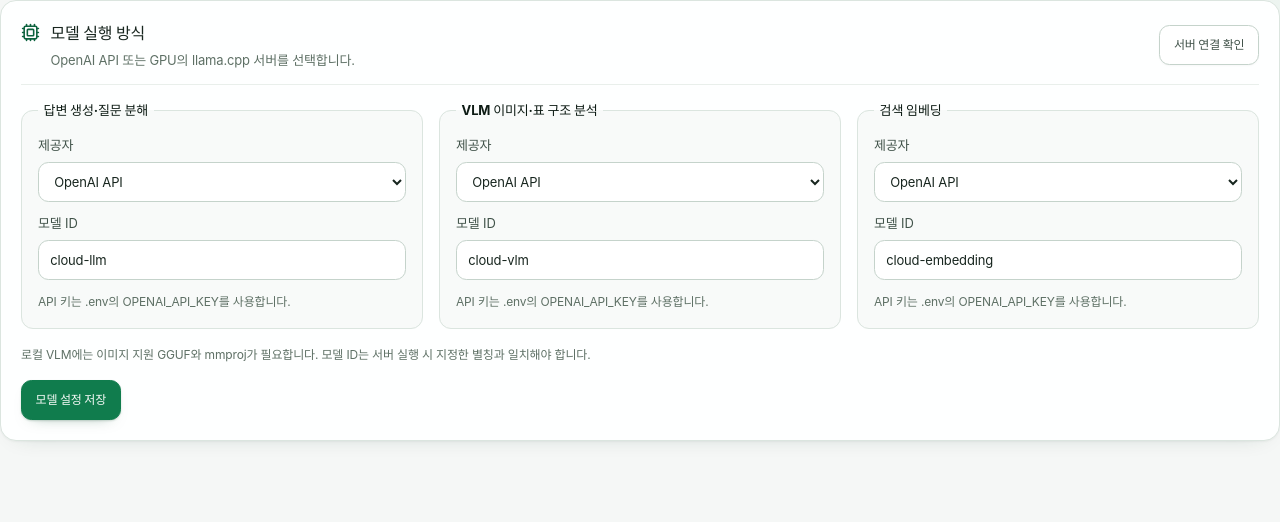
Scenario: InferenceSettingsPanel › shows a failed save without claiming settings were applied
What coordinates should you click on to do the following:
click the button "모델 설정 저장"
I would click on:
 (71, 400)
Its box is [21,380,121,420].
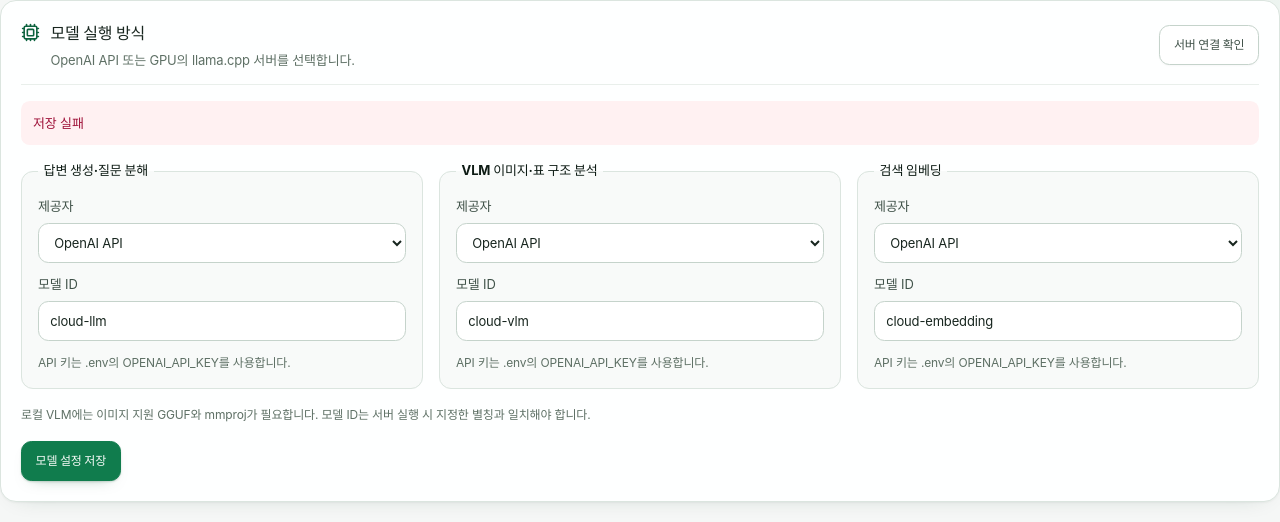
Expected: the message reads "저장 실패", [33,114,84,130]
